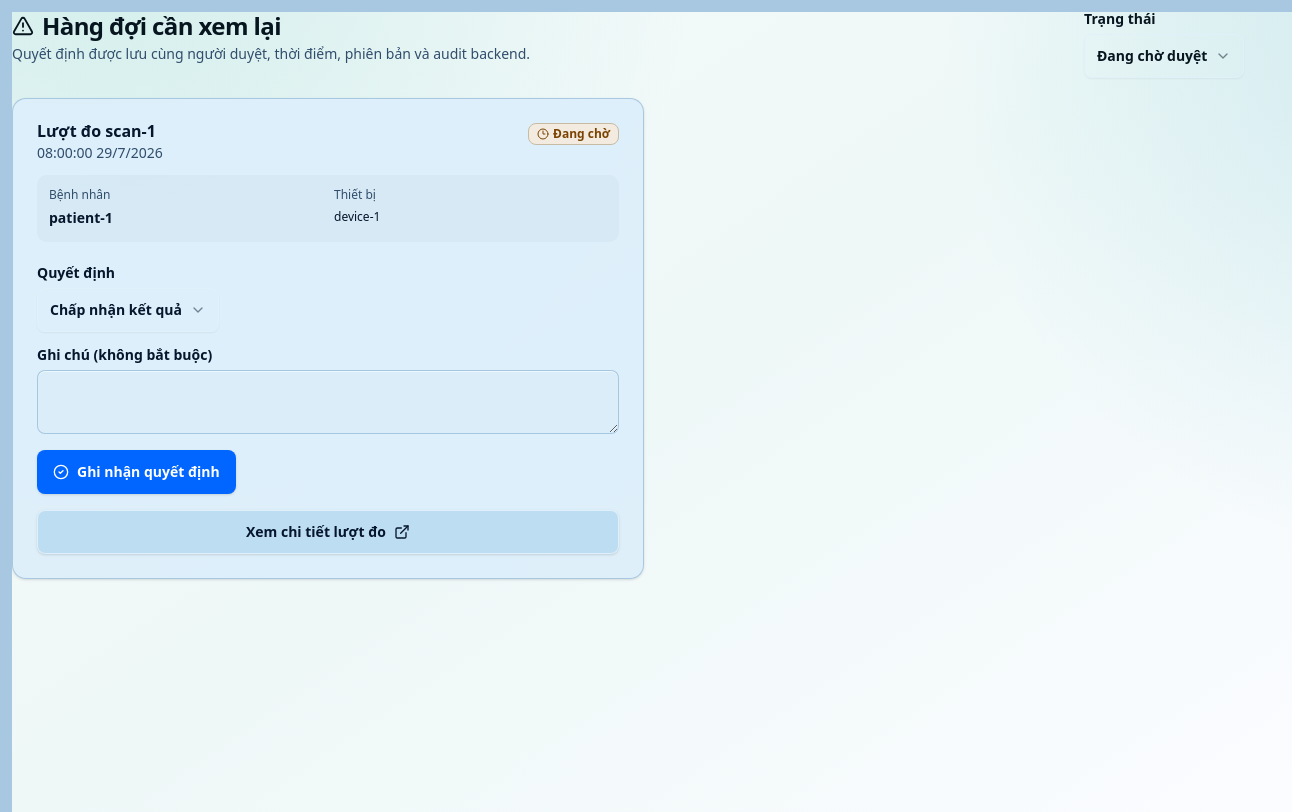
Test: clinical workflow pages › retries one review submission with the same idempotency key
Later steps or results of the test are not shown.
Click the button "Ghi nhận quyết định". click: [136, 472]
box: [37,450,236,494]
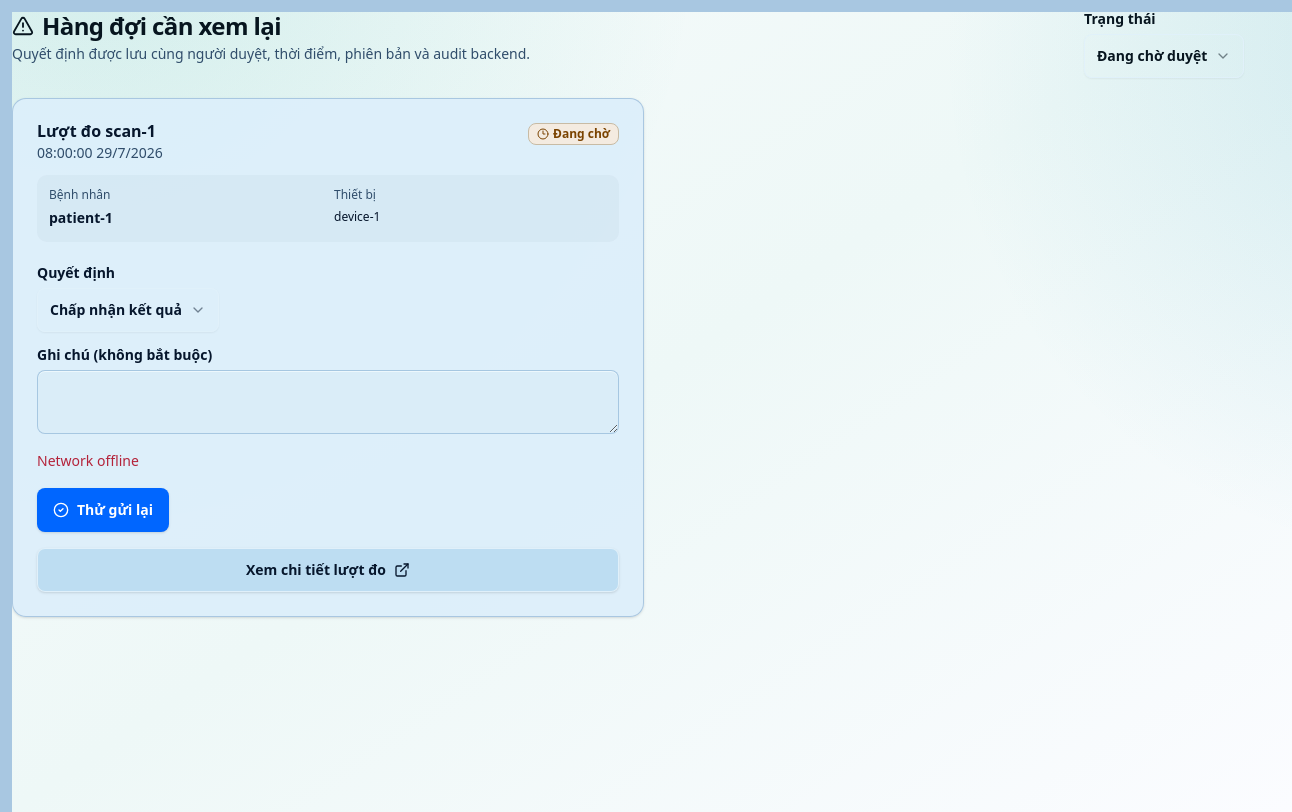
expect the text "Network offline" is shown: met, box [37,451,139,470]
